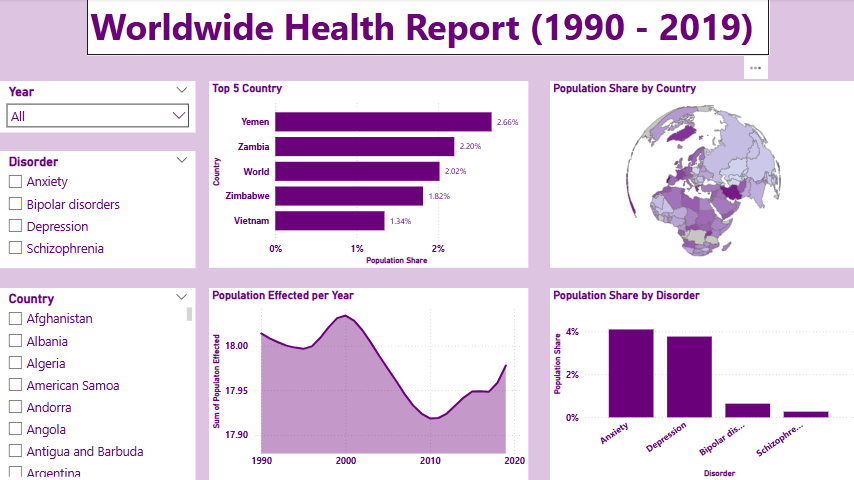

The page's visual inventory and layout, read from the dashboard file:
{"tool":"powerbi","page":{"name":"Page 1","canvas":[1280,720],"ordinal":0},"visuals":[{"type":"textbox","box":[129.3,0,1019.6,85.7],"z":0},{"type":"slicer","fields":{"Values":["1- mental-illnesses-prevalence.Year"]},"box":[0,124.3,292.3,77.3],"z":1000},{"type":"slicer","fields":{"Values":["1- mental-illnesses-prevalence.Disorder"]},"box":[0,228.5,292.3,174.7],"z":2000},{"type":"areaChart","title":"Population Effected per Year","fields":{"Category":["1- mental-illnesses-prevalence.Year"],"Y":["Sum(1- mental-illnesses-prevalence.Populaton Effected)"]},"box":[312.4,433.4,477.1,287.2],"z":3000},{"type":"shapeMap","fields":{"Category":["1- mental-illnesses-prevalence.Country"],"Value":["1- mental-illnesses-prevalence.Population Share"]},"box":[821.4,124.3,458.6,278.8],"z":4000},{"type":"clusteredColumnChart","fields":{"Category":["1- mental-illnesses-prevalence.Disorder"],"Y":["1- mental-illnesses-prevalence.Population Share"]},"box":[821.4,433.4,458.6,287.2],"z":5000},{"type":"clusteredBarChart","title":"Top 5 Country","fields":{"Category":["1- mental-illnesses-prevalence.Country"],"Y":["1- mental-illnesses-prevalence.Population Share"]},"box":[312.4,124.3,477.1,278.8],"z":7000},{"type":"slicer","fields":{"Values":["1- mental-illnesses-prevalence.Country"]},"box":[0,433,292,287],"z":7001}]}

Visuals, with their boxes in screenshot pixels (x1, y1, x2, y2), scaled from the page's 1280x720 canvas onto the 854x480 screenshot:
textbox: pyautogui.locateOnScreen(86, 0, 767, 57)
slicer - 1- mental-illnesses-prevalence.Year: pyautogui.locateOnScreen(0, 83, 195, 134)
slicer - 1- mental-illnesses-prevalence.Disorder: pyautogui.locateOnScreen(0, 152, 195, 269)
"Population Effected per Year" areaChart: pyautogui.locateOnScreen(208, 289, 527, 479)
shapeMap - 1- mental-illnesses-prevalence.Country x 1- mental-illnesses-prevalence.Population Share: pyautogui.locateOnScreen(548, 83, 853, 269)
clusteredColumnChart - 1- mental-illnesses-prevalence.Disorder x 1- mental-illnesses-prevalence.Population Share: pyautogui.locateOnScreen(548, 289, 853, 479)
"Top 5 Country" clusteredBarChart: pyautogui.locateOnScreen(208, 83, 527, 269)
slicer - 1- mental-illnesses-prevalence.Country: pyautogui.locateOnScreen(0, 289, 195, 479)
